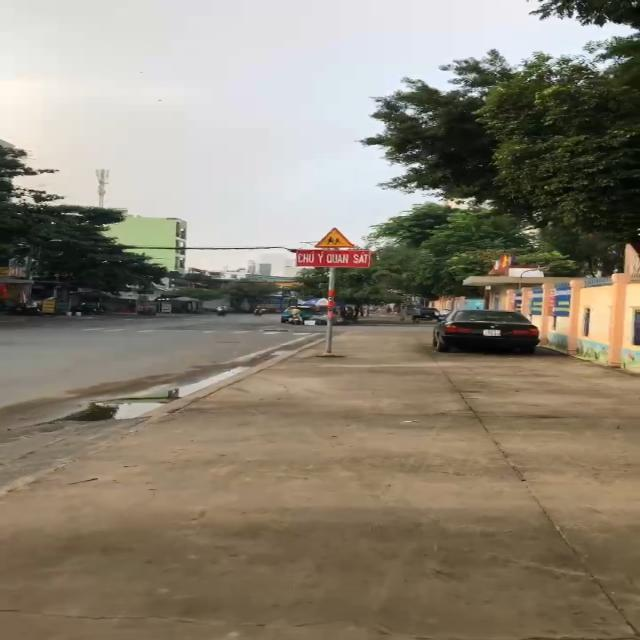Bien bao tre em: (313, 226, 357, 249)
